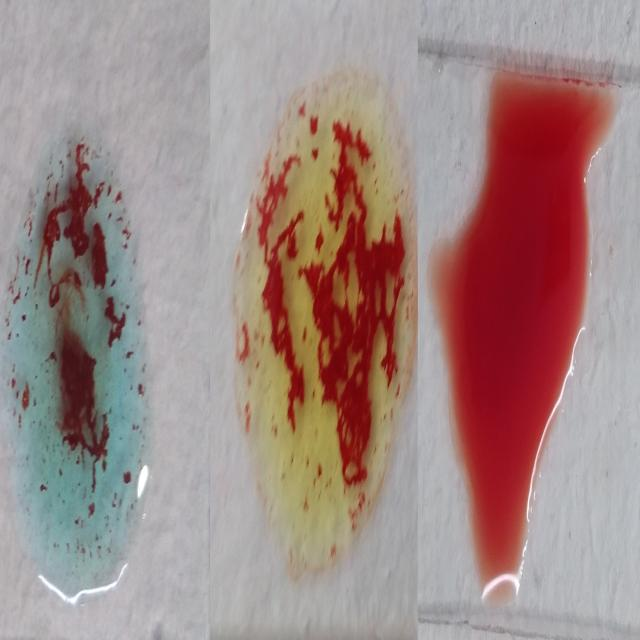A: (5, 125, 149, 603)
B: (233, 77, 413, 574)
